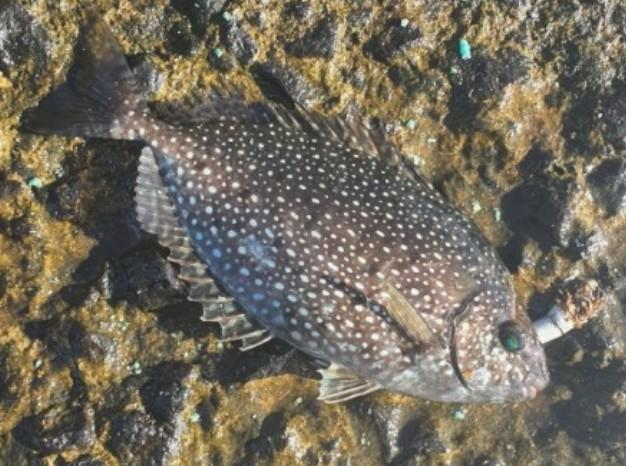fish: (22, 18, 548, 402)
